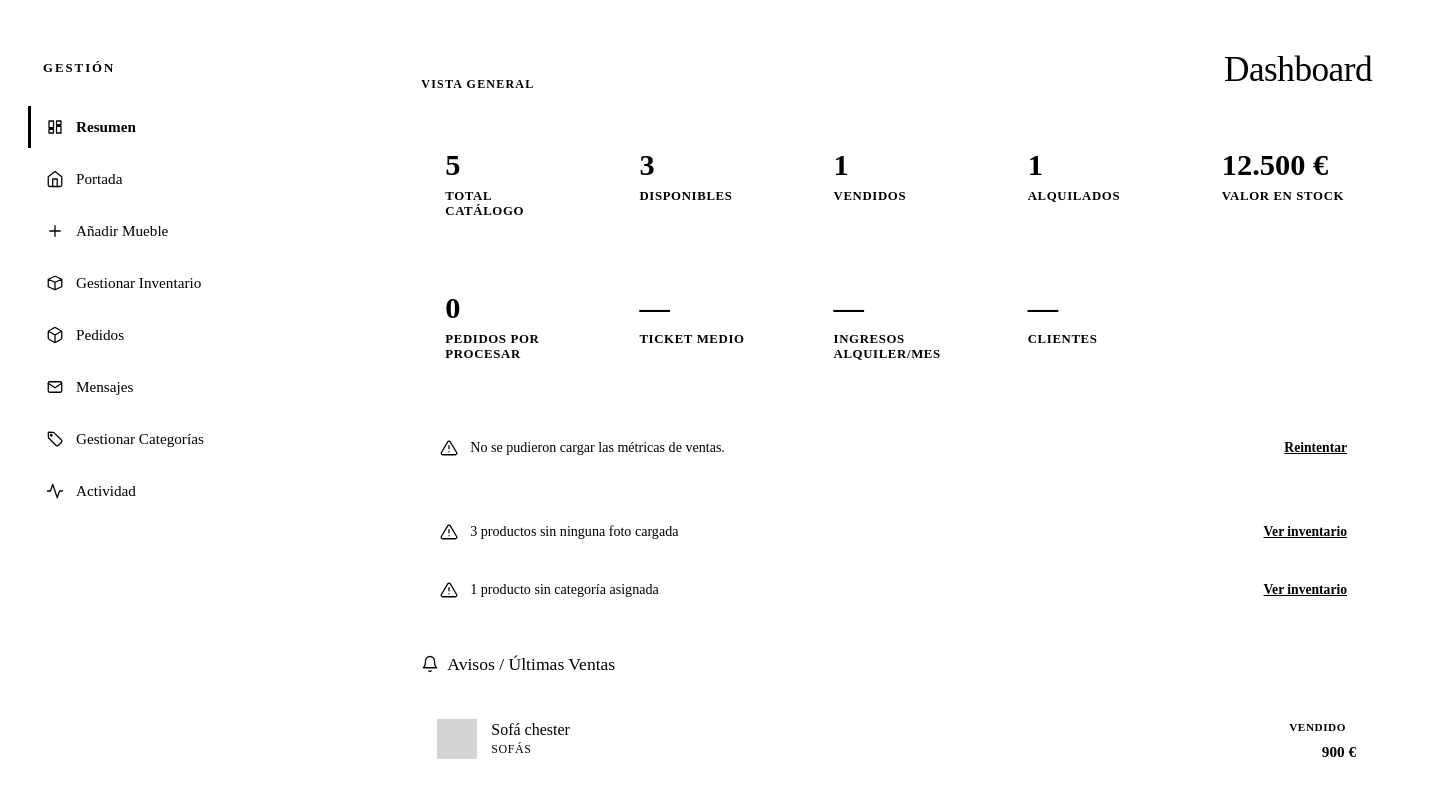
Resumen — alertas › el botón "Ver inventario" de la alerta de fotos lleva a Gestionar Inventario
Click the button "Ver inventario" in the row of "sin ninguna foto cargada" at (1305, 532), box [1258, 523, 1353, 541]
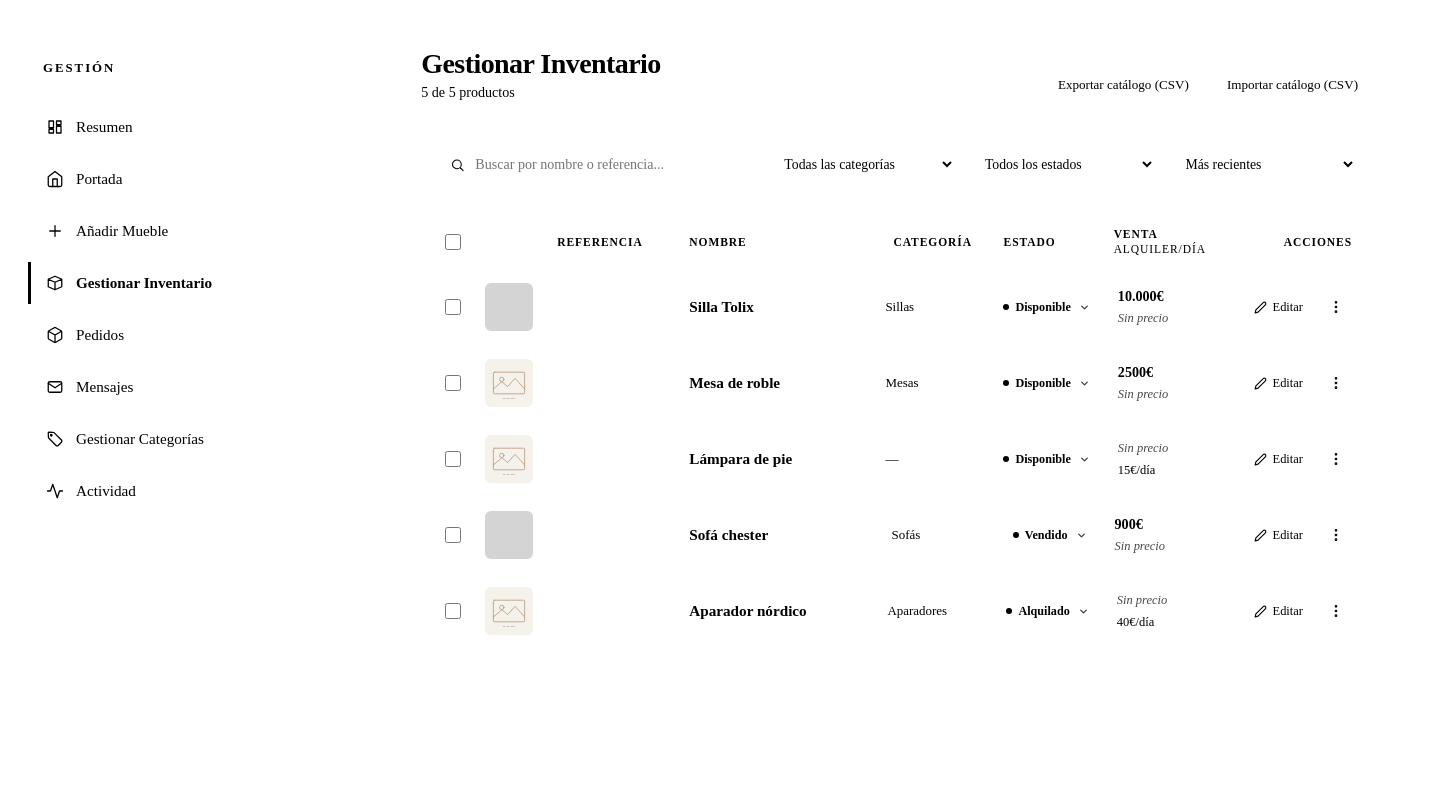
expect the heading "Gestionar Inventario" is shown: met, box [421, 48, 661, 80]
expect the heading "Dashboard" is gone: met
